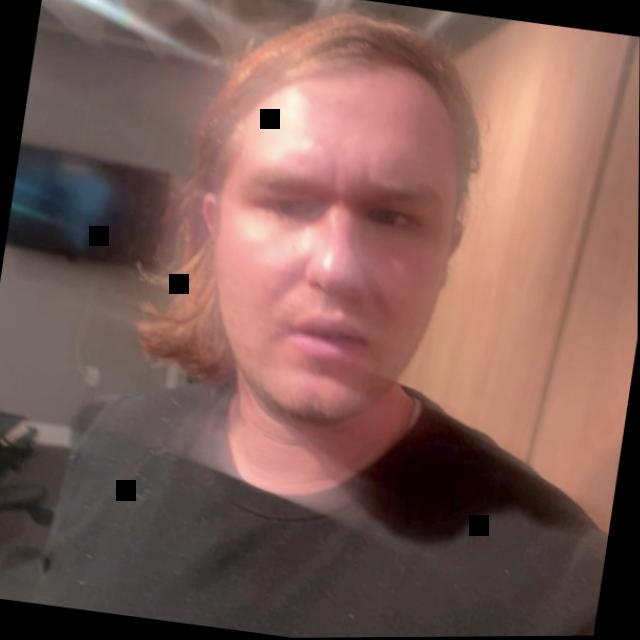NO-Mask: (133, 0, 498, 479)
